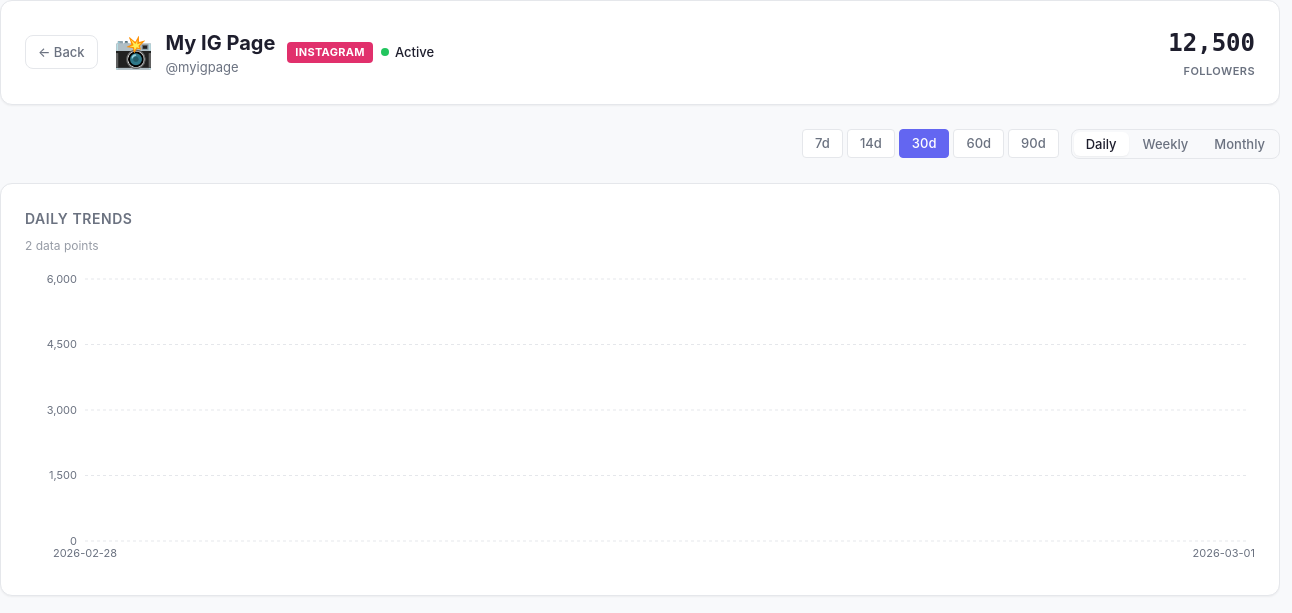
Scenario: ChannelDetail page › TC-C4: back button navigates to channels list
Check: the heading "My IG Page" is shown, box [166,28,275,58]
Click the button with aria-label "back to channels": (61, 52) [25,35,98,69]
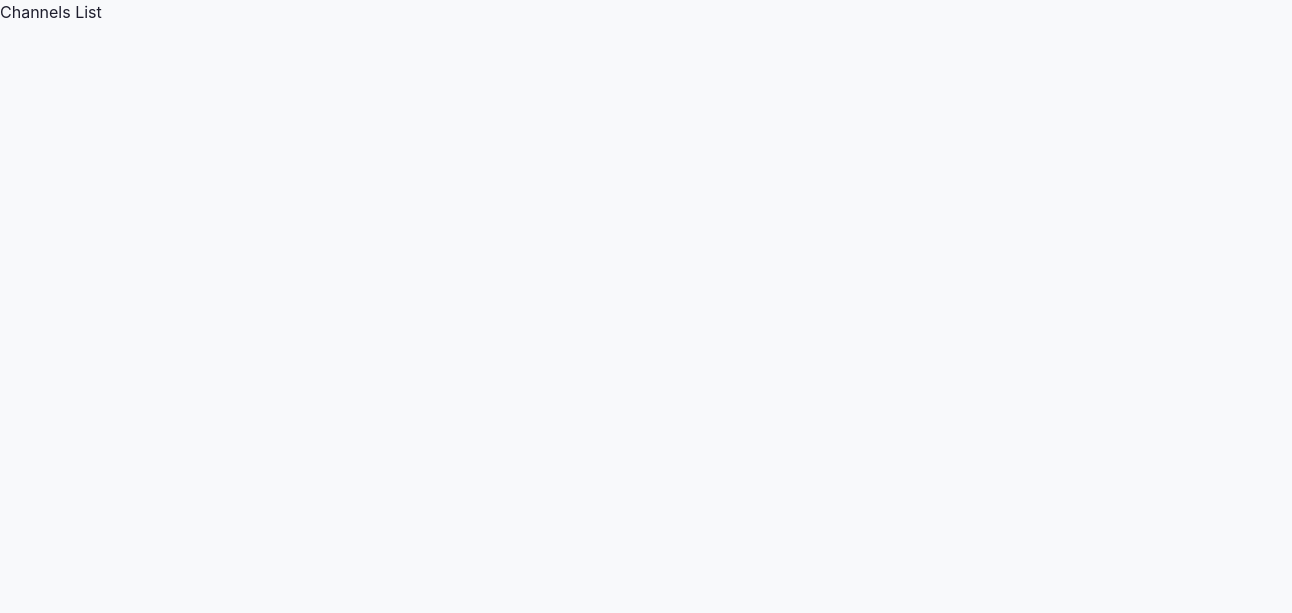
Check: the text "Channels List" is shown, box [0,2,102,22]
